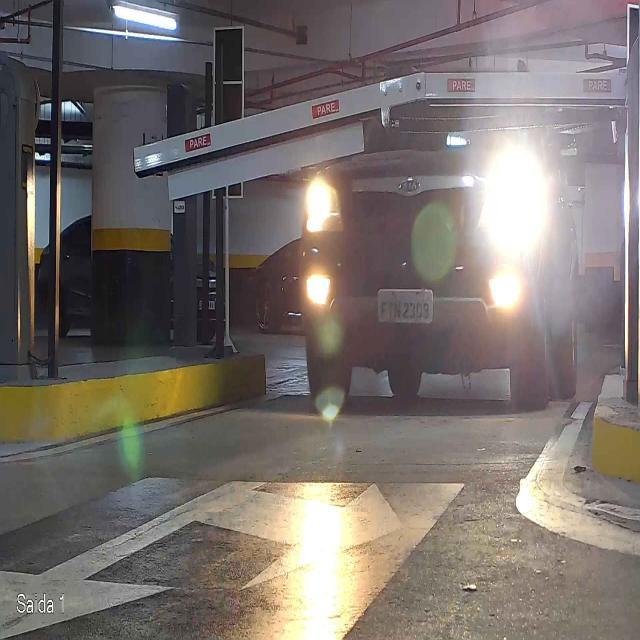old_plate: (376, 288, 435, 326)
